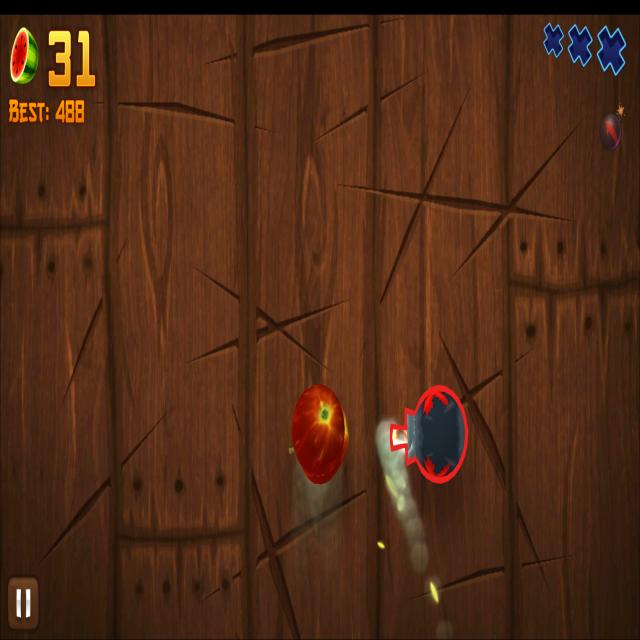bomb: (390, 385, 469, 484), (288, 384, 349, 486)
